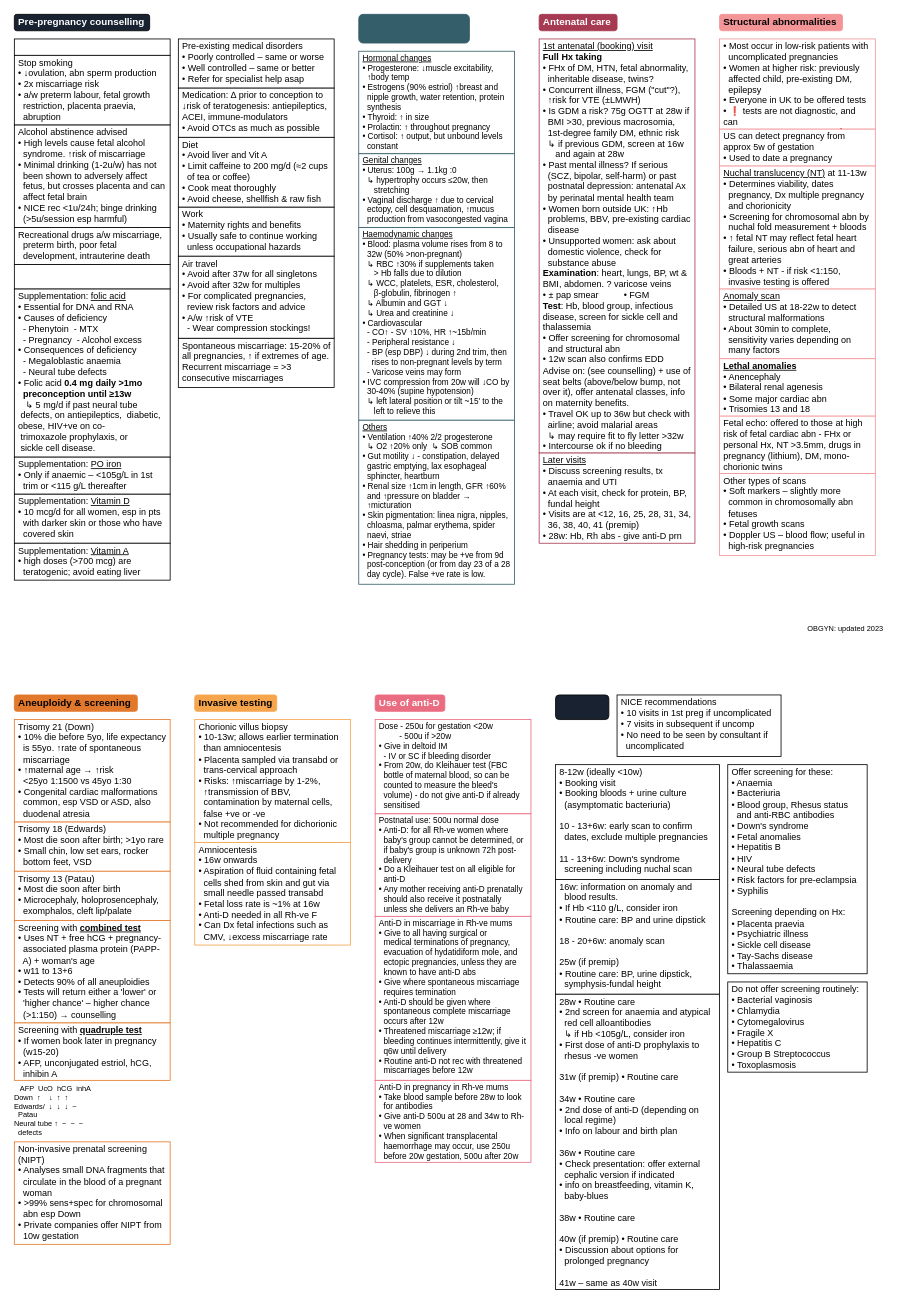
Image size: 898x1304. Some labels were removed from this diagram. Here are the shapes that lost their labels. From the top down, the centre of each, then its label:
At (x=92, y=46): "Immunisation: rubella".
At (x=413, y=28): "Physiological changes in pregnancy".
At (x=92, y=276): "Wt loss: BMI >18.5 & <30 • Avoid contact sports please".
At (x=582, y=707): "Antenatal timetable".
